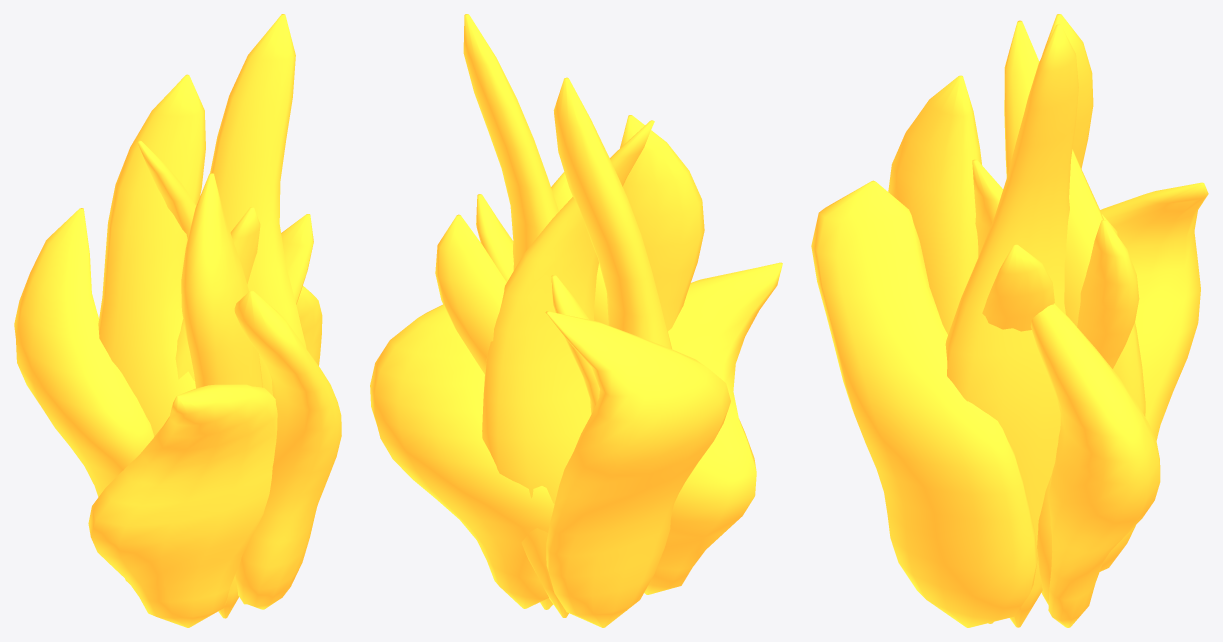
Rendered from flame.glb.
3 views of the same model, side by side, from view 1: azimuth 30°, elevation 25°; view 2: azimuth 150°, elevation 25°; view 3: azimuth 270°, elevation 25° (orthographic). The views are drawn at different scales.
Visible parts, largest first — view 1: Flame_Tongues; view 2: Flame_Tongues; view 3: Flame_Tongues.
Part boxes in pixels (left/top/right/bottom): Flame_Tongues: left=14, top=14, right=341, bottom=627; Flame_Tongues: left=370, top=14, right=782, bottom=627; Flame_Tongues: left=811, top=14, right=1208, bottom=627.
Bounding box in the file's own units: 0.125 × 0.22 × 0.1248.
